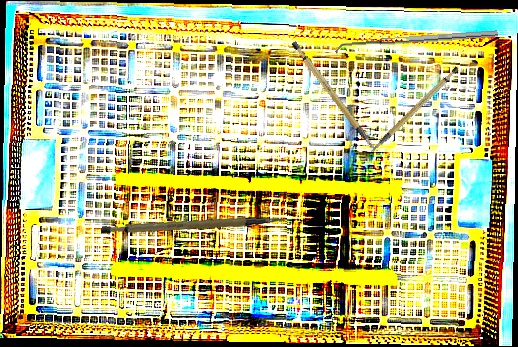Scalpel Handle: (289, 32, 378, 163), (358, 65, 469, 153), (100, 201, 286, 252)
Spatula Surgical: (334, 30, 499, 55)
